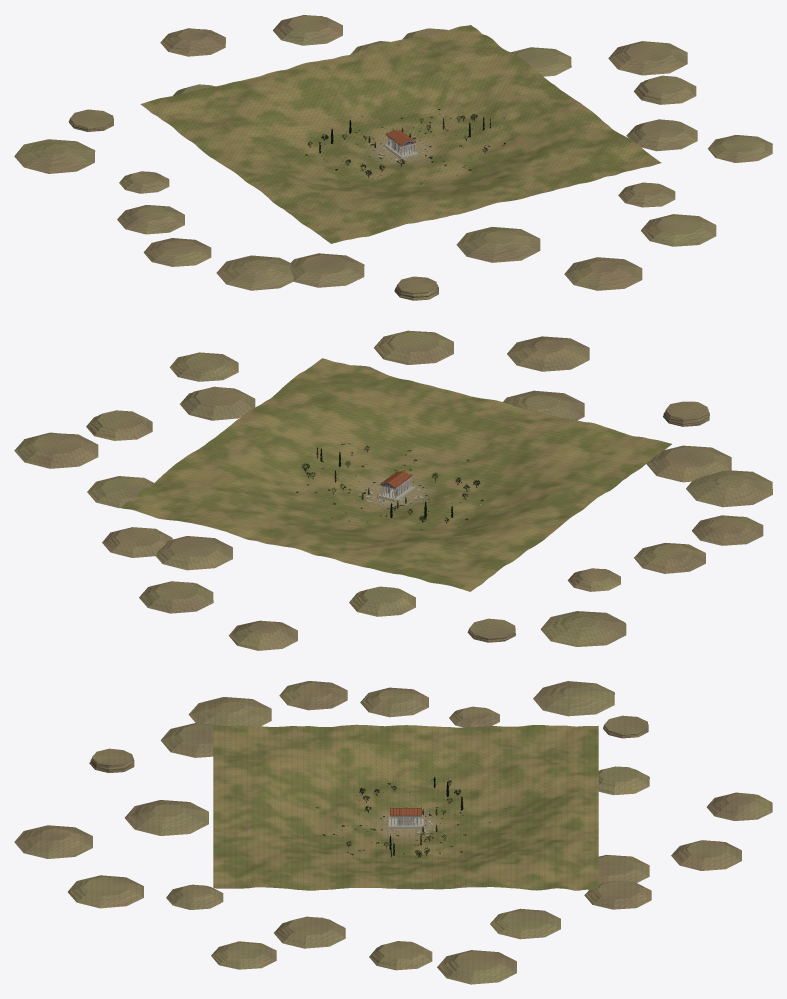
Rendered from side-apollon-tapinagi-baked.glb.
The picture shows the model from 3 angles, top to bottom: view 1: azimuth 30°, elevation 25°; view 2: azimuth 150°, elevation 25°; view 3: azimuth 270°, elevation 25°; orthographic projection. The views are drawn at different scales.
Parts seen in each view (by area): view 1: side-apollon-tapinagi-terrain, side-apollon-tapinagi-ground, side-apollon-tapinagi-flora, side-apollon-tapinagi-near; view 2: side-apollon-tapinagi-terrain, side-apollon-tapinagi-ground, side-apollon-tapinagi-flora, side-apollon-tapinagi-near; view 3: side-apollon-tapinagi-terrain, side-apollon-tapinagi-ground, side-apollon-tapinagi-flora, side-apollon-tapinagi-near.
Part boxes in pixels (x1,y1,x2,y2): side-apollon-tapinagi-terrain: [140, 25, 661, 243]; side-apollon-tapinagi-ground: [14, 15, 772, 300]; side-apollon-tapinagi-flora: [282, 96, 505, 189]; side-apollon-tapinagi-near: [376, 130, 423, 160]; side-apollon-tapinagi-terrain: [120, 358, 671, 591]; side-apollon-tapinagi-ground: [14, 330, 772, 650]; side-apollon-tapinagi-flora: [289, 438, 504, 535]; side-apollon-tapinagi-near: [363, 471, 422, 505]; side-apollon-tapinagi-terrain: [213, 724, 598, 890]; side-apollon-tapinagi-ground: [14, 681, 772, 984]; side-apollon-tapinagi-flora: [288, 772, 519, 864]; side-apollon-tapinagi-near: [383, 808, 436, 831].
Bounding box in the file's own units: 640 × 22.79 × 676.
Materials: 28 (20 with a texture image).
